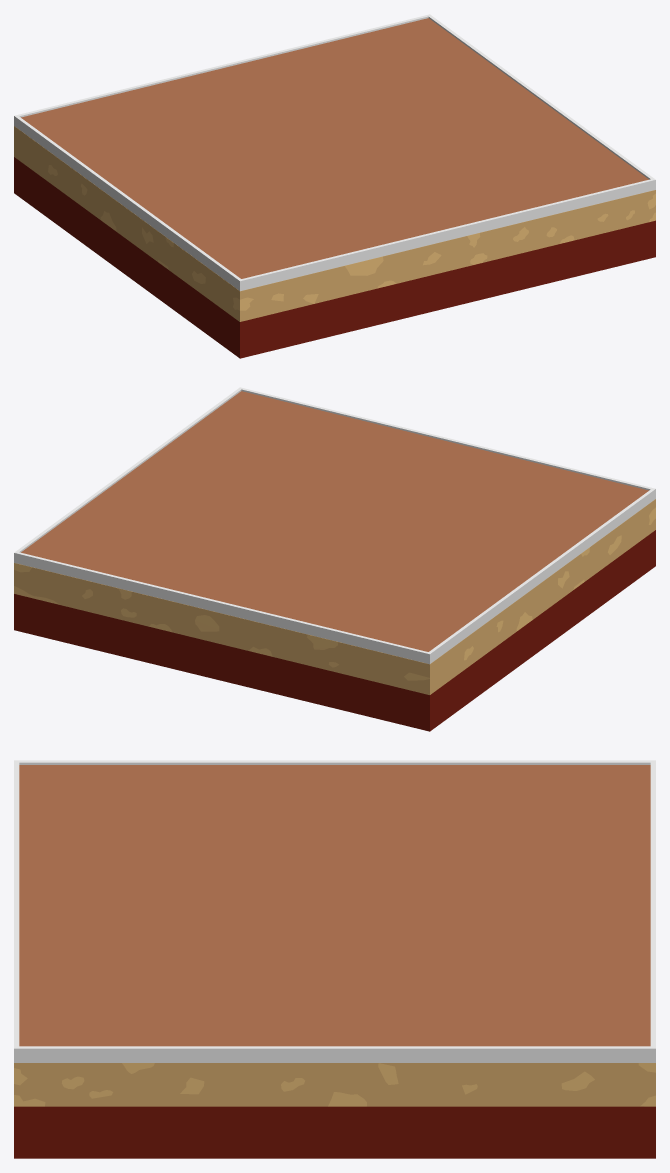
The model's file is ground.fbx.
3 views of the same model, one above another, from view 1: azimuth 30°, elevation 25°; view 2: azimuth 150°, elevation 25°; view 3: azimuth 270°, elevation 25° (orthographic). The views are drawn at different scales.
Visible parts, largest first — view 1: Cube.559, Cube.554, Cube.555; view 2: Cube.559, Cube.554, Cube.555; view 3: Cube.559, Cube.554, Cube.555.
Boxes of the visible parts, <box> form: Cube.559: <box>14,14,655,291</box>; Cube.554: <box>14,157,655,358</box>; Cube.555: <box>14,126,655,321</box>; Cube.559: <box>14,387,655,664</box>; Cube.554: <box>14,530,655,731</box>; Cube.555: <box>14,499,655,694</box>; Cube.559: <box>14,760,655,1062</box>; Cube.554: <box>14,1106,655,1158</box>; Cube.555: <box>14,1063,655,1106</box>.
Size of the model in its own units: 160 by 28.43 by 151.
1 material, 1 textured.
